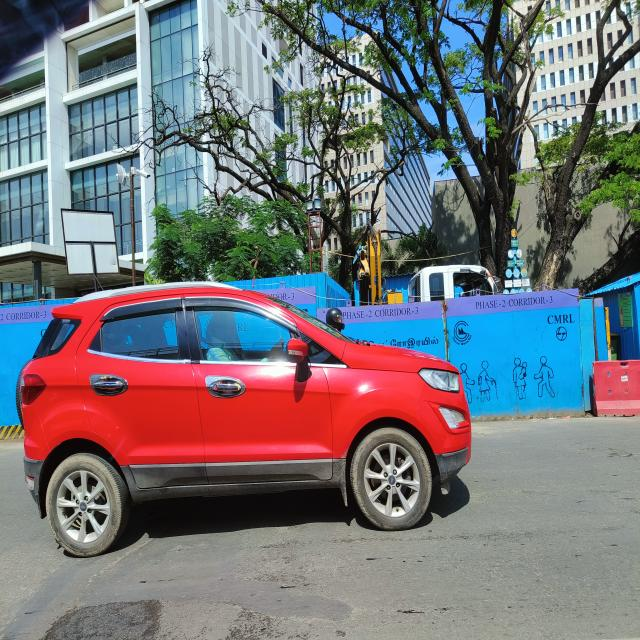scratch: (107, 426, 119, 438), (28, 436, 32, 440)
